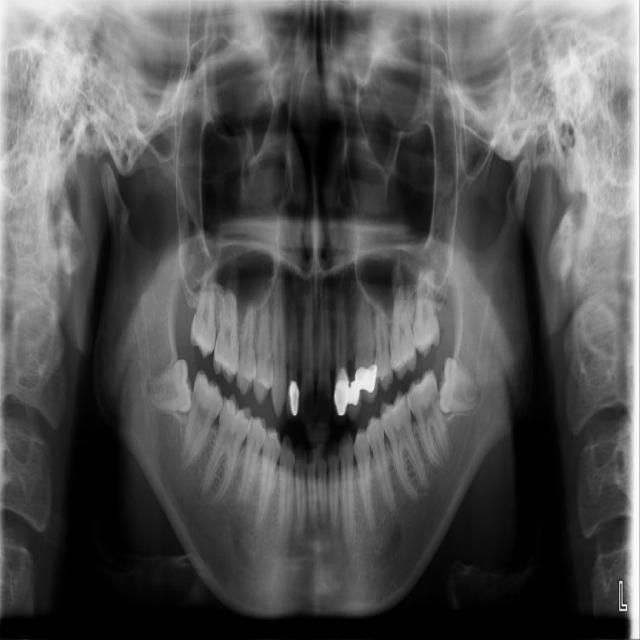Crown: (334, 366, 377, 415)
Filling: (289, 380, 299, 415)
impacted tooth: (438, 357, 485, 416), (151, 360, 191, 412)
